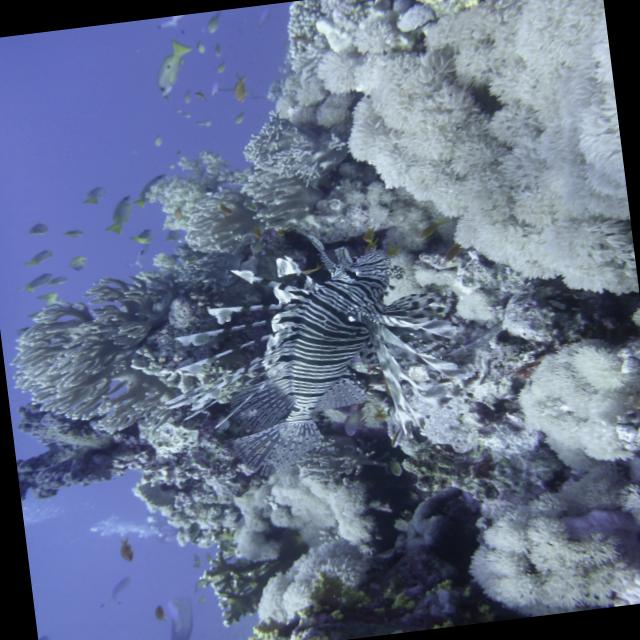Aslan Baligi: (143, 213, 483, 489)
